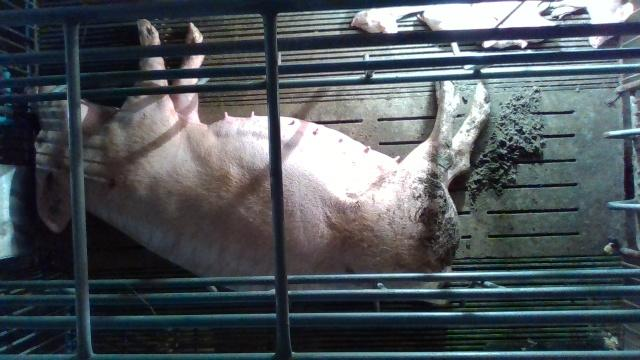piglet: (424, 3, 554, 49), (550, 0, 634, 49), (351, 7, 424, 35)
sow-sleep-lactate: (24, 19, 491, 306)
